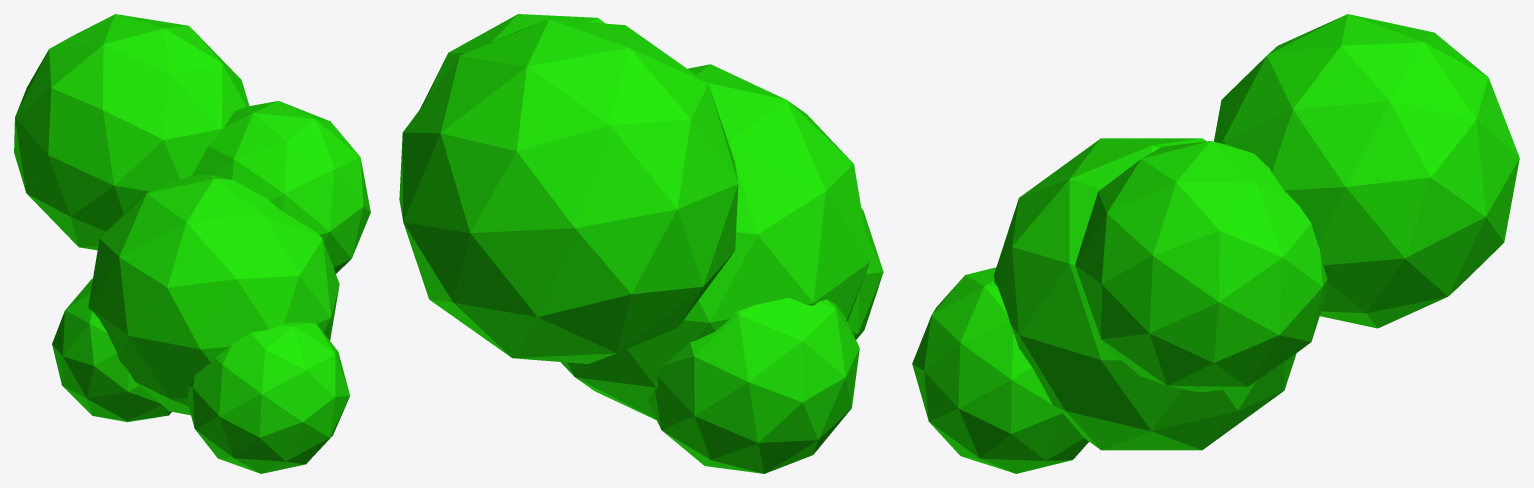
Rendered from bush 2.fbx.
3 views of the same model, side by side, from view 1: azimuth 30°, elevation 25°; view 2: azimuth 150°, elevation 25°; view 3: azimuth 270°, elevation 25° (orthographic). The views are drawn at different scales.
Visible parts, largest first — view 1: Icosphere.001; view 2: Icosphere.001; view 3: Icosphere.001.
Boxes of the visible parts, x1=… form: Icosphere.001: x1=14, y1=14, x2=370, y2=473; Icosphere.001: x1=399, y1=14, x2=883, y2=473; Icosphere.001: x1=912, y1=14, x2=1519, y2=473.
Size of the model in its own units: 264 by 289 by 370.
